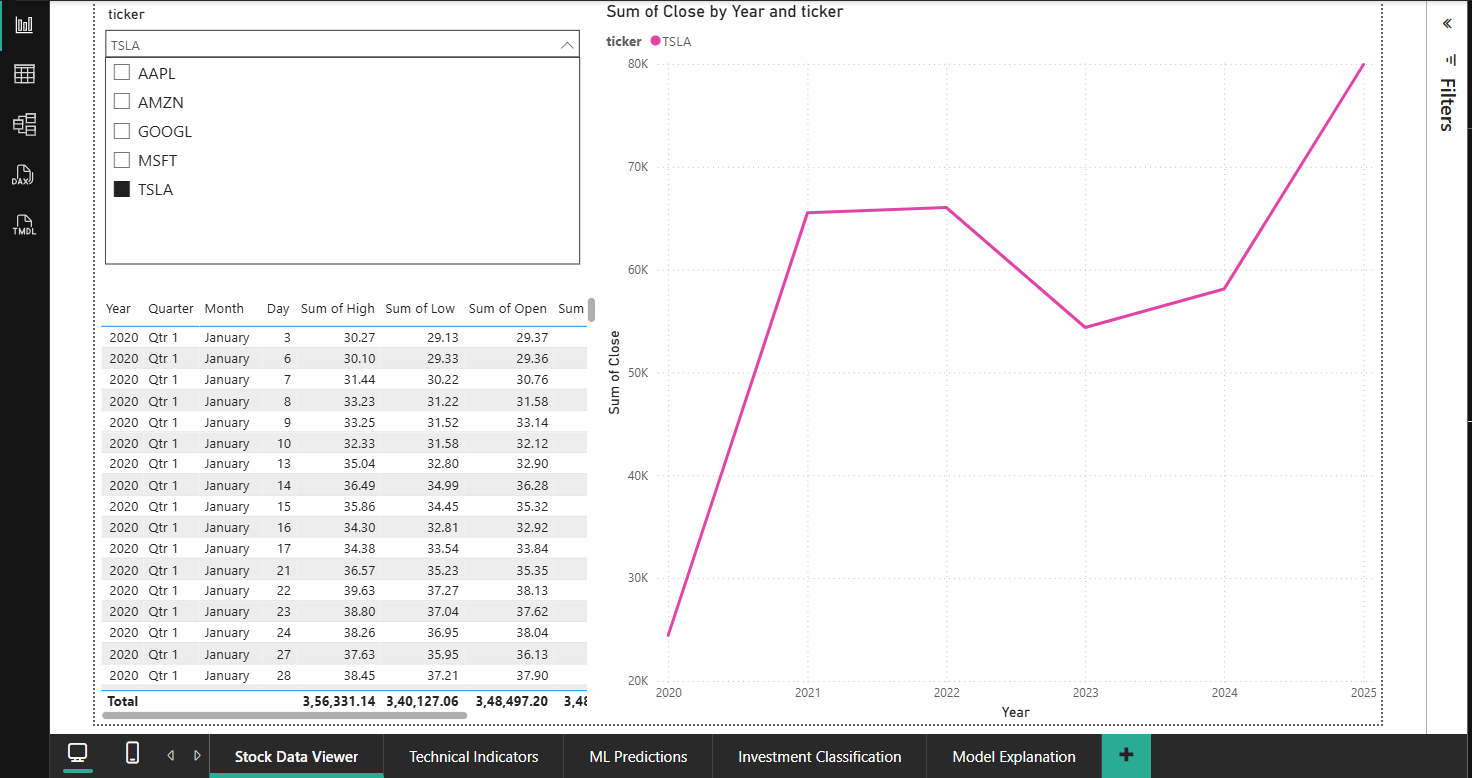

This screenshot's page, from the dashboard's own definition file:
{"tool":"powerbi","page":{"name":"Stock Data Viewer","canvas":[1280,720],"ordinal":0},"visuals":[{"type":"slicer","fields":{"Values":["technical_indicators.ticker"]},"box":[0,0,492.6,279.9],"z":0},{"type":"tableEx","fields":{"Values":["technical_indicators.date.Variation.Date Hierarchy.Year","technical_indicators.date.Variation.Date Hierarchy.Quarter","technical_indicators.date.Variation.Date Hierarchy.Month","technical_indicators.date.Variation.Date Hierarchy.Day","Sum(technical_indicators.High)","Sum(technical_indicators.Low)","Sum(technical_indicators.Open)","Sum(technical_indicators.Close)","Sum(technical_indicators.Volume)"]},"box":[0,289.5,503.6,430.9],"z":1000},{"type":"lineChart","fields":{"Category":["technical_indicators.date.Variation.Date Hierarchy.Year","technical_indicators.date.Variation.Date Hierarchy.Quarter","technical_indicators.date.Variation.Date Hierarchy.Month","technical_indicators.date.Variation.Date Hierarchy.Day"],"Y":["Sum(technical_indicators.Close)"],"Series":["technical_indicators.ticker"]},"box":[503.6,0,776.7,720.4],"z":2000}]}

Visuals, with their boxes on the page's 1280x720 design canvas (x1, y1, x2, y2). These are canvas units, not pixel positions in the 1472x778 screenshot, which may show the page scaled, cropped or inside an application window:
slicer - technical_indicators.ticker: BBox(0, 0, 493, 280)
tableEx - technical_indicators.date.Variation.Date Hierarchy.Year x technical_indicators.date.Variation.Date Hierarchy.Quarter: BBox(0, 290, 504, 720)
lineChart - technical_indicators.date.Variation.Date Hierarchy.Year x technical_indicators.date.Variation.Date Hierarchy.Quarter: BBox(504, 0, 1280, 720)
